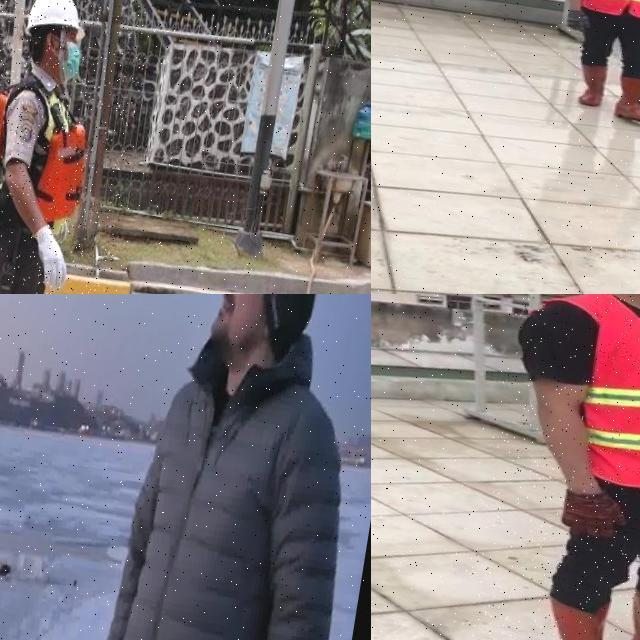boots: (531, 594, 640, 640), (572, 61, 610, 109), (615, 75, 640, 125)
helmet: (24, 0, 95, 44)
vest: (0, 76, 102, 240), (572, 294, 640, 502)
